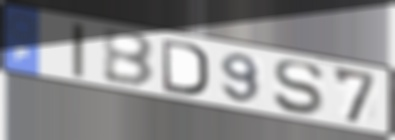7: (330, 65, 380, 126)
9: (218, 52, 266, 104)
B: (100, 28, 157, 90)
D: (160, 36, 212, 98)
I: (69, 21, 87, 81)
S: (272, 59, 327, 116)
